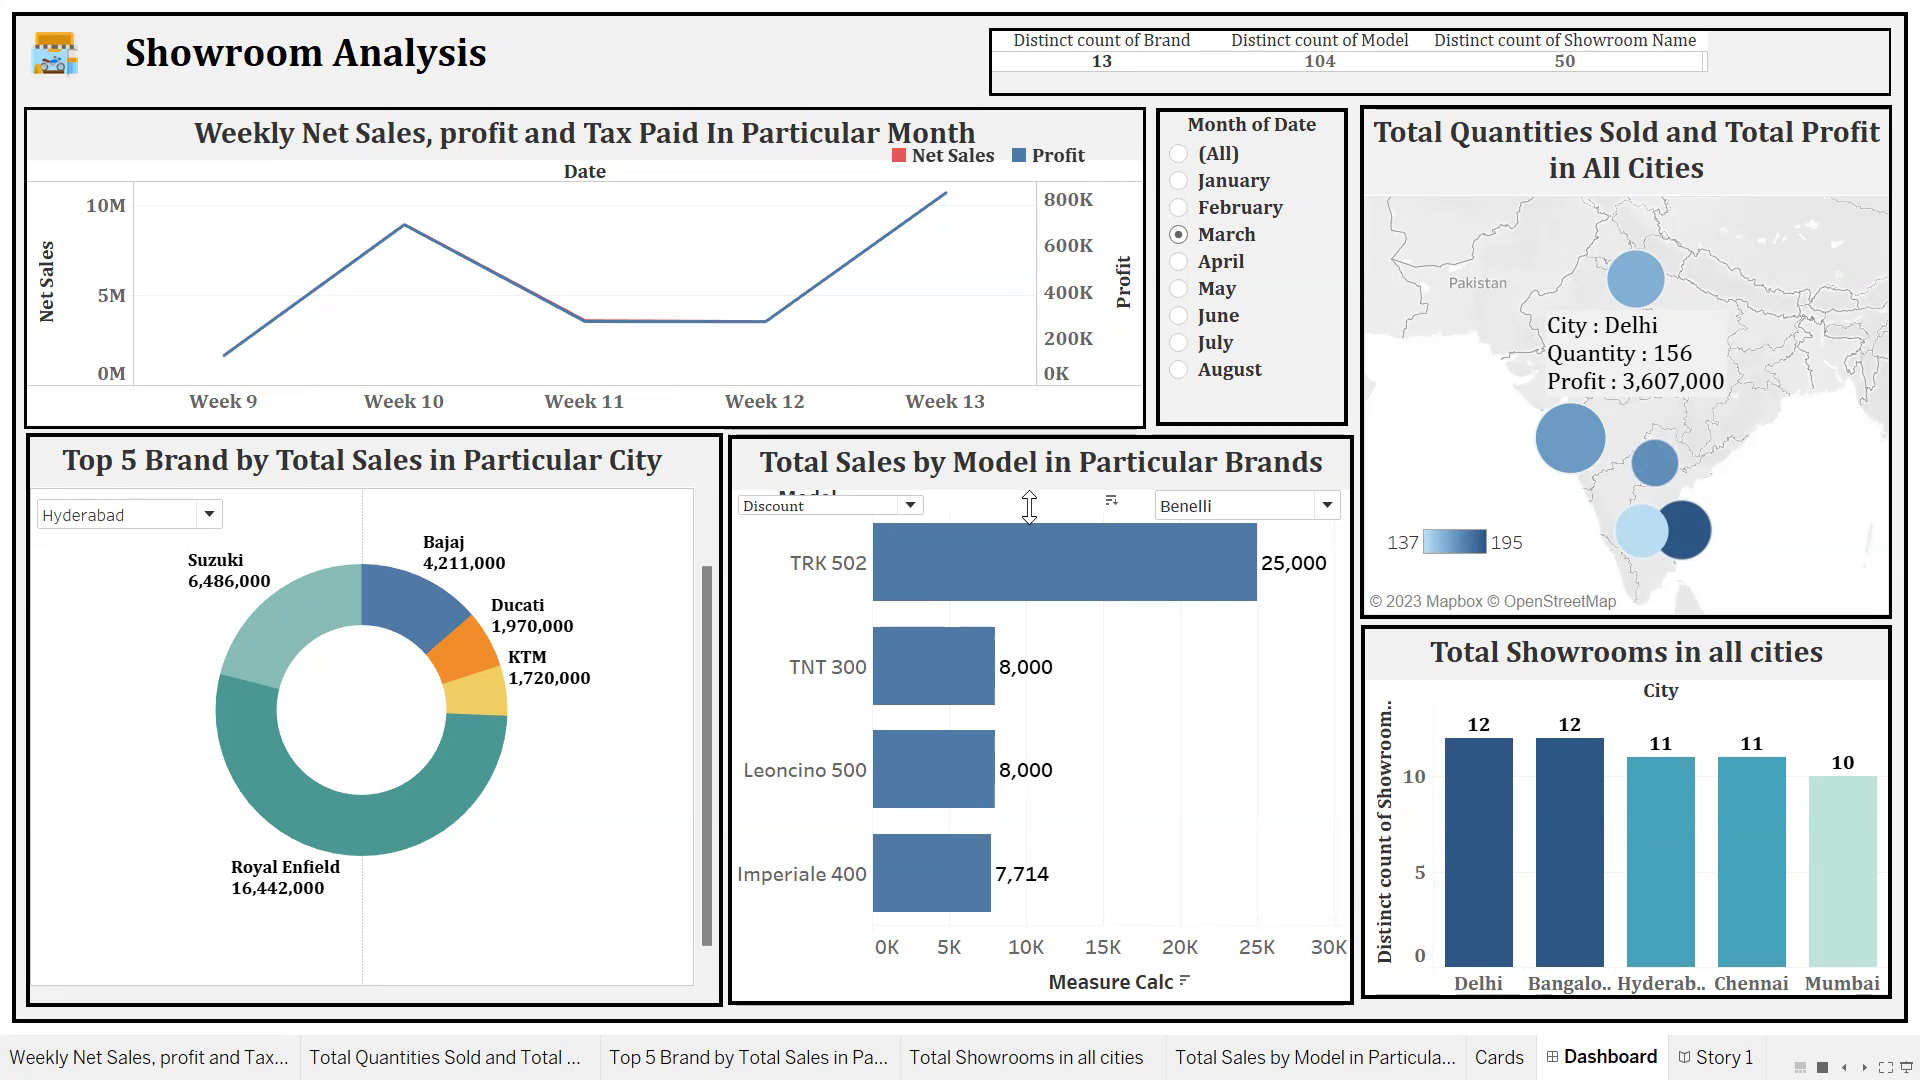

The dashboard page shown, as its layout file describes it:
{"tool":"tableau","page":{"name":"Dashboard 1","canvas":[1000,1000],"units":"permille","ordinal":0},"visuals":[{"type":"blank","box":[6.9,13.5,986.1,973]},{"type":"text","box":[47.6,22,347.2,52.4]},{"type":"image","param":"C:/Users/user/Desktop/motorcycle.png","box":[13,25.3,47.6,42.2]},{"type":"worksheet","title":"Cards","mark":"Automatic","rows":["Brand","Model","Showroom Name"],"box":[409.5,25.3,451.9,45.6]},{"type":"worksheet","title":"Weekly Net Sales, Profit and Tax Paid in perticular month","mark":"Automatic","rows":["Net Sales","Profit"],"cols":["Date"],"box":[18.2,71,542.9,376.7]},{"type":"worksheet","title":"Total Quantities Sold and Total Profit in all Cities","mark":"Automatic","box":[563.8,74.3,417.2,375]},{"type":"legend","title":"Total Quantities Sold and Total Profit in all Cities","param":"[federated.1tjbj9212wqdv1138zb0c0d5njvz].[sum:Quantity Sold:qk]","box":[857.8,116.5,102.3,40.5]},{"type":"filter","title":"Weekly Net Sales, Profit and Tax Paid in perticular month","param":"[federated.1tjbj9212wqdv1138zb0c0d5njvz].[mn:Date:ok]","box":[19.9,128.4,81.4,42.2]},{"type":"legend","title":"Weekly Net Sales, Profit and Tax Paid in perticular month","param":"[federated.1tjbj9212wqdv1138zb0c0d5njvz].[:Measure Names]","box":[337.7,131.8,206.1,37.2]},{"type":"worksheet","title":"Top 5 Brand by Total Sales in Particular City","mark":"Pie","cols":["Calculation_90634977729388545","Calculation_90634977729429507"],"box":[18.2,454.4,440.6,516.9]},{"type":"worksheet","title":"Total Sales by Model in Particular Brands","mark":"Automatic","rows":["Model"],"cols":["Calculation_343680981867454464"],"box":[461.4,454.4,224.6,515.2]},{"type":"worksheet","title":"Total Showrooms in all Cities","mark":"Automatic","rows":["Showroom Name"],"cols":["City"],"box":[689.5,454.4,292.3,515.2]},{"type":"filter","title":"Top 5 Brand by Total Sales in Particular City","param":"[federated.1tjbj9212wqdv1138zb0c0d5njvz].[none:City:nk]","box":[353,537.2,84.1,206.1]},{"type":"filter","title":"Total Sales by Model in Particular Brands","param":"[federated.1tjbj9212wqdv1138zb0c0d5njvz].[none:Brand:nk]","box":[464.1,543.9,66.7,33.8]},{"type":"parameter","param":"[Parameters].[Parameter 1]","box":[587,547.3,94.4,32.1]}]}

Visuals, with their boxes on the dashboard's canvas, which has no fixed pixel size, in thousandths of its width and height (x1, y1, x2, y2). These are canvas units, not pixel positions in the 1920x1080 screenshot, which may show the page scaled, cropped or inside an application window:
blank: box(7, 14, 993, 986)
text: box(48, 22, 395, 74)
image: box(13, 25, 61, 68)
"Cards" worksheet: box(410, 25, 861, 71)
"Weekly Net Sales, Profit and Tax Paid in perticular month" worksheet: box(18, 71, 561, 448)
"Total Quantities Sold and Total Profit in all Cities" worksheet: box(564, 74, 981, 449)
"Total Quantities Sold and Total Profit in all Cities" legend: box(858, 116, 960, 157)
"Weekly Net Sales, Profit and Tax Paid in perticular month" filter: box(20, 128, 101, 171)
"Weekly Net Sales, Profit and Tax Paid in perticular month" legend: box(338, 132, 544, 169)
"Top 5 Brand by Total Sales in Particular City" worksheet (Pie marks): box(18, 454, 459, 971)
"Total Sales by Model in Particular Brands" worksheet: box(461, 454, 686, 970)
"Total Showrooms in all Cities" worksheet: box(690, 454, 982, 970)
"Top 5 Brand by Total Sales in Particular City" filter: box(353, 537, 437, 743)
"Total Sales by Model in Particular Brands" filter: box(464, 544, 531, 578)
parameter: box(587, 547, 681, 579)
